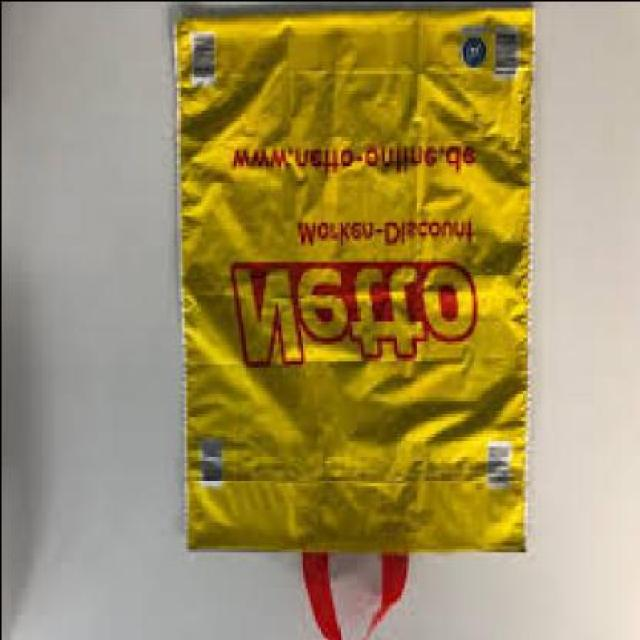PLASTIC: (170, 3, 532, 639)
